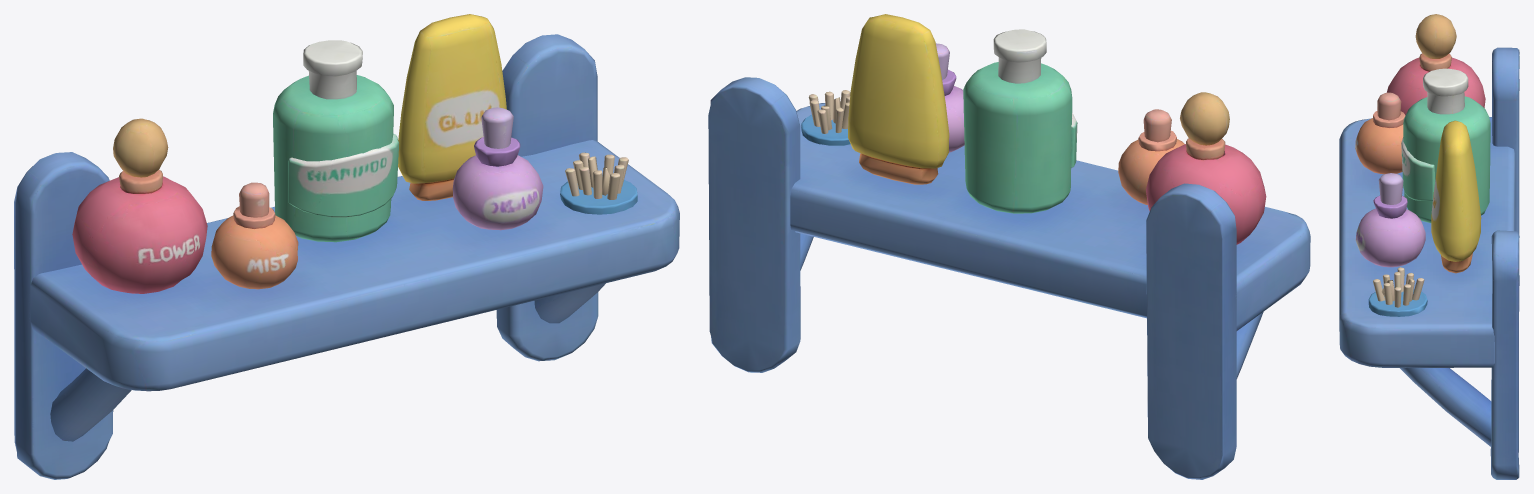
The model's file is salon-perfume-shelf.glb.
3 views of the same model, side by side, from view 1: azimuth 30°, elevation 25°; view 2: azimuth 150°, elevation 25°; view 3: azimuth 270°, elevation 25° (orthographic). The views are drawn at different scales.
Parts seen in each view (by area): view 1: geometry_0; view 2: geometry_0; view 3: geometry_0.
Part boxes in pixels (box(x1,y1,x2,y2)): geometry_0: box(14, 14, 679, 479); geometry_0: box(708, 14, 1310, 479); geometry_0: box(1339, 14, 1519, 479).
Size of the model in its own units: 1 by 0.6684 by 0.3589.
Materials: 1 (1 with a texture image).
